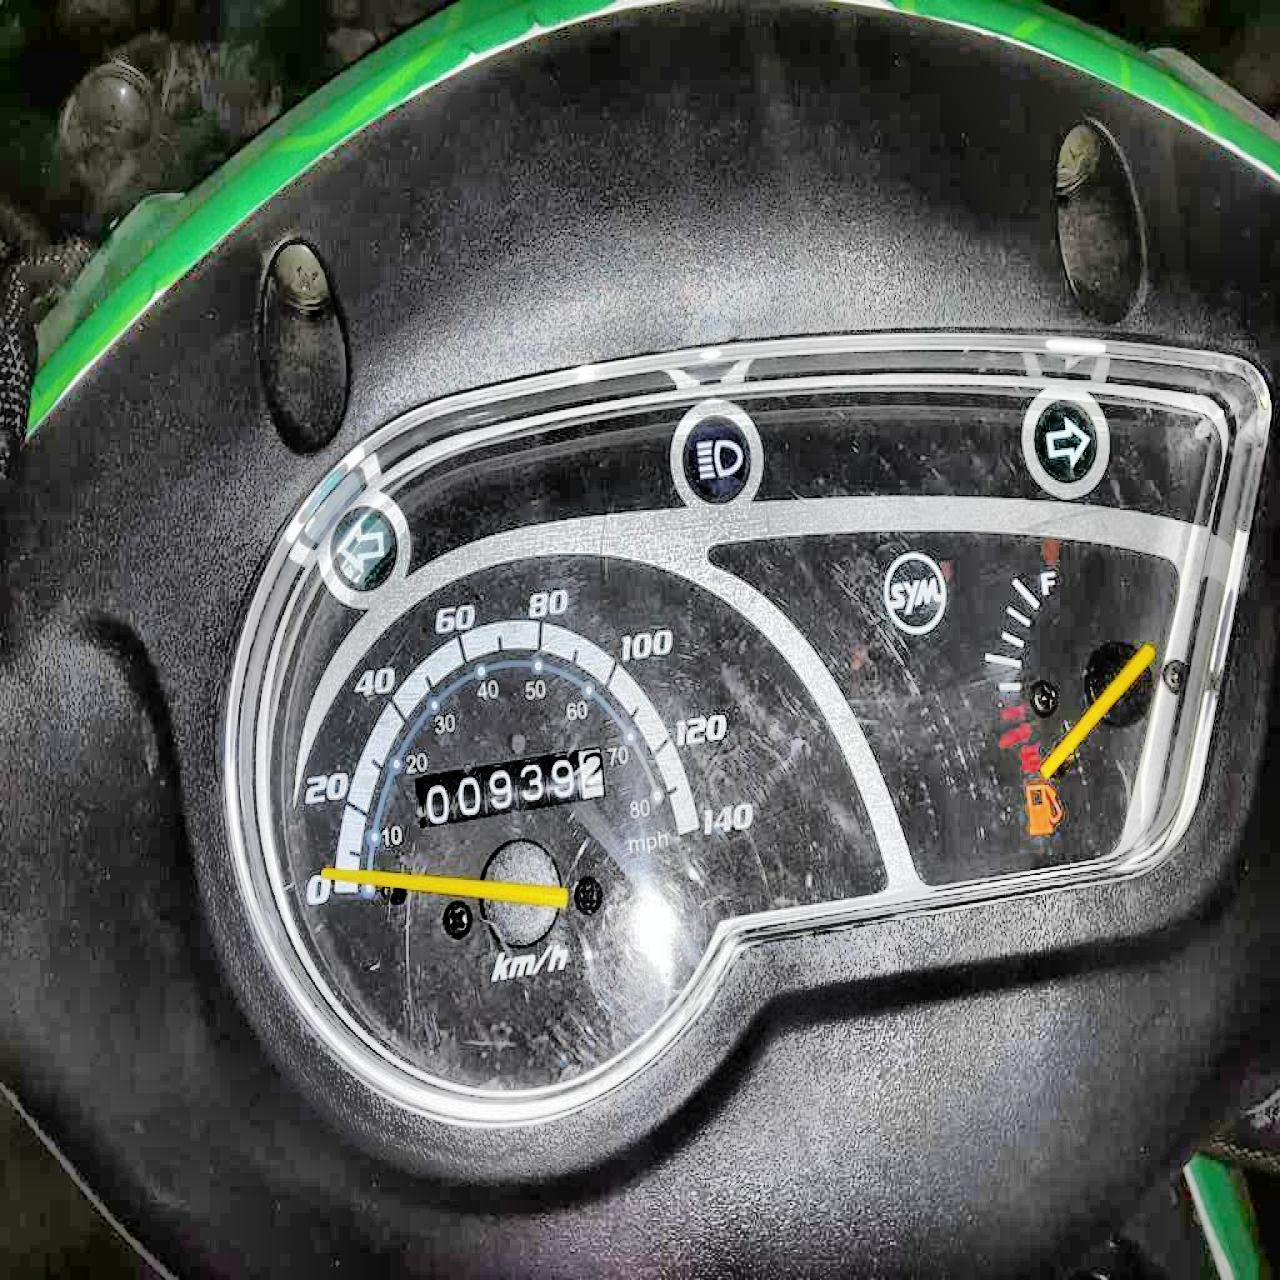0: (455, 774, 481, 817), (423, 779, 449, 823), (416, 750, 425, 771)
2: (579, 748, 604, 790), (406, 754, 416, 774)
3: (518, 762, 544, 805)
9: (486, 767, 513, 813), (550, 755, 576, 797)
odometer: (407, 743, 607, 830)
